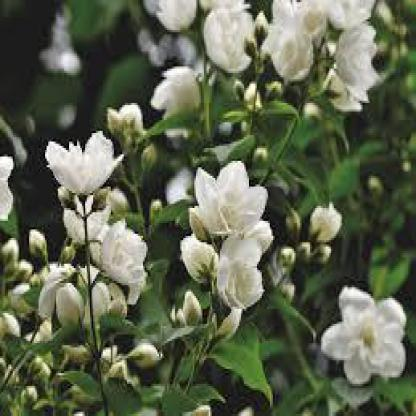Melati: (144, 147, 292, 361), (139, 1, 377, 134), (36, 117, 144, 308), (327, 265, 406, 381)
